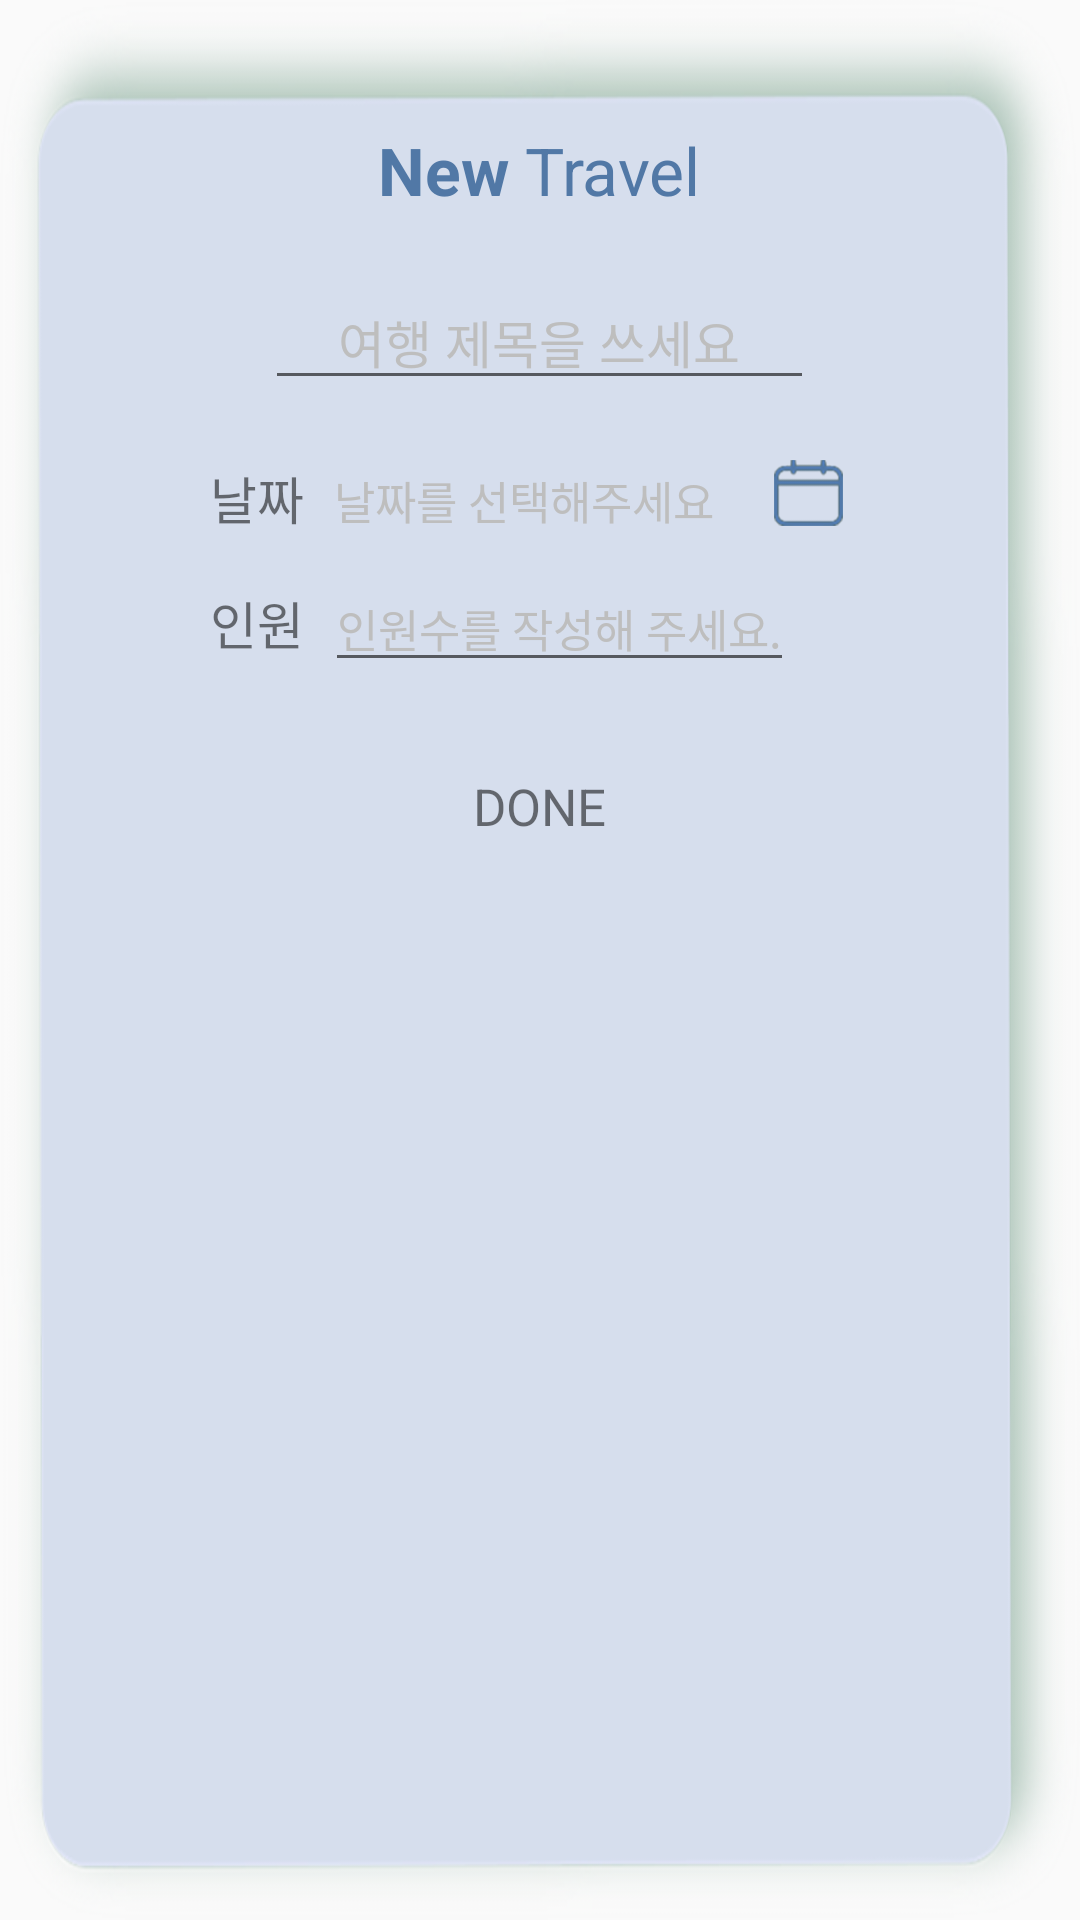

Where icons sit on this 1080px×1920px app screen, as (x1, y1, x2, y2):
calendar: (774, 460, 843, 526)
